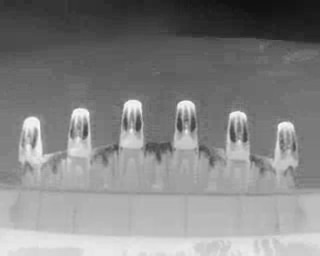claw: (225, 110, 252, 164), (119, 98, 145, 151), (68, 105, 93, 160), (174, 98, 199, 151), (275, 120, 300, 172), (17, 115, 43, 163)
